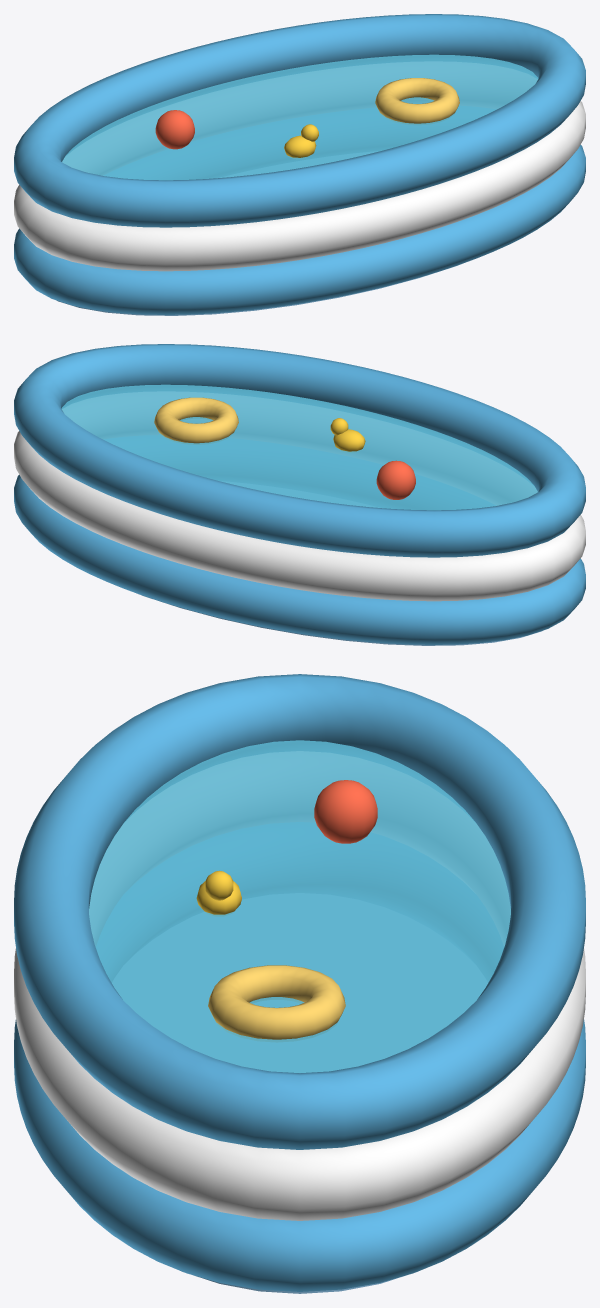
Rendered from pool-inflatable.glb.
3 views of the same model, one above another, from view 1: azimuth 30°, elevation 25°; view 2: azimuth 150°, elevation 25°; view 3: azimuth 270°, elevation 25° (orthographic). The views are drawn at different scales.
Size of the model in its own units: 4.42 by 1.05 by 2.48.
